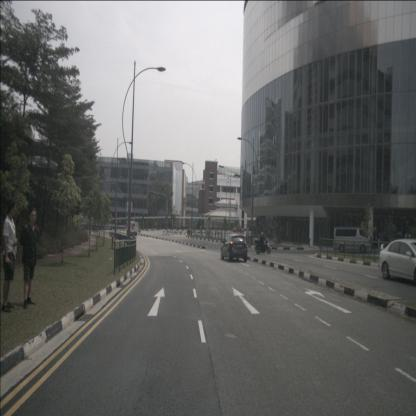human-pedestrian-adult: (19, 208, 40, 309), (1, 200, 18, 314), (200, 224, 202, 235)
vehicle-car: (380, 239, 416, 285), (334, 226, 372, 254), (220, 234, 248, 262)
vehicle-motorcycle: (254, 232, 271, 254)
vehicle-truck: (126, 221, 138, 236)
